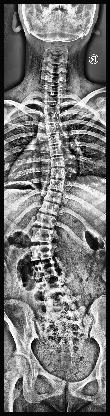Vertebrae: (29, 244, 55, 262), (32, 226, 56, 244), (33, 264, 59, 280), (32, 214, 58, 230), (40, 284, 64, 298), (39, 202, 59, 218), (44, 190, 64, 204), (46, 299, 68, 311), (48, 180, 66, 192), (49, 156, 67, 168), (47, 134, 64, 146), (46, 113, 62, 125), (45, 103, 61, 115), (50, 144, 64, 156), (46, 124, 62, 134), (52, 169, 66, 179)
